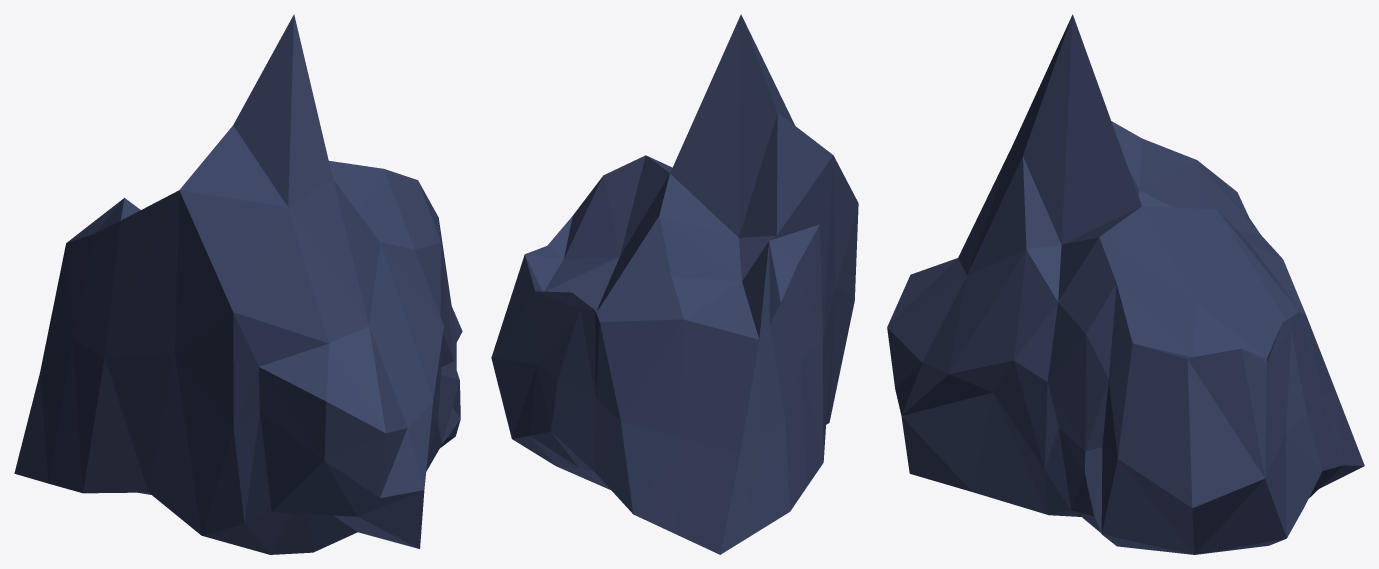
Rendered from Spikestone 5.fbx.
The picture shows the model from 3 angles, left to right: view 1: azimuth 30°, elevation 25°; view 2: azimuth 150°, elevation 25°; view 3: azimuth 270°, elevation 25°; orthographic projection. The views are drawn at different scales.
Visible parts, largest first — view 1: Spikestone Size 5; view 2: Spikestone Size 5; view 3: Spikestone Size 5.
Part boxes in pixels (x1,y1,x2,y2): Spikestone Size 5: (14, 14, 462, 554); Spikestone Size 5: (491, 14, 858, 554); Spikestone Size 5: (887, 14, 1364, 554).
Size of the model in its own units: 836 by 1065 by 929.
